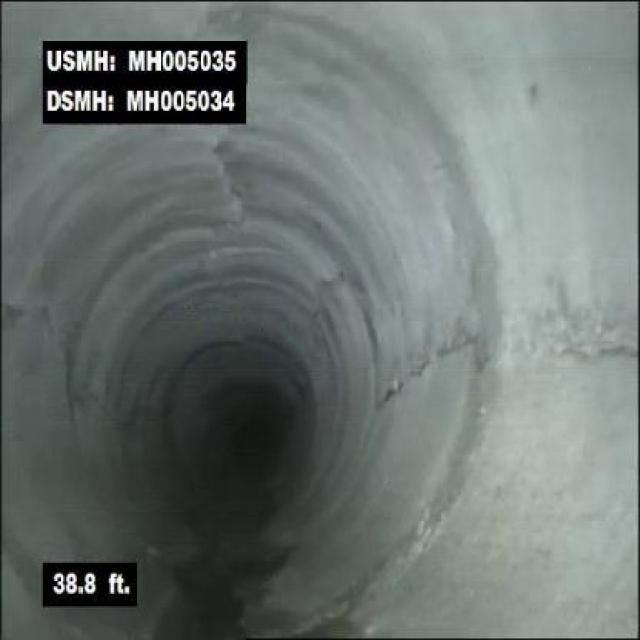Buckling: (203, 134, 251, 226)
Crack: (378, 331, 488, 403), (556, 336, 638, 376)
